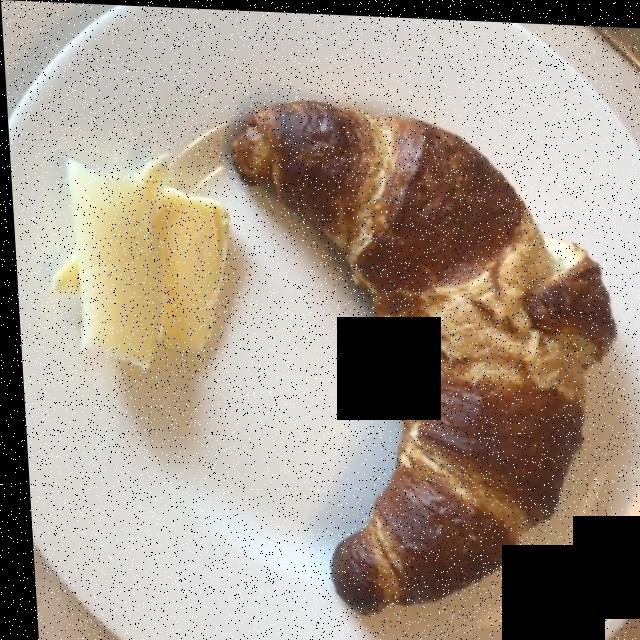butter: (58, 166, 230, 391)
